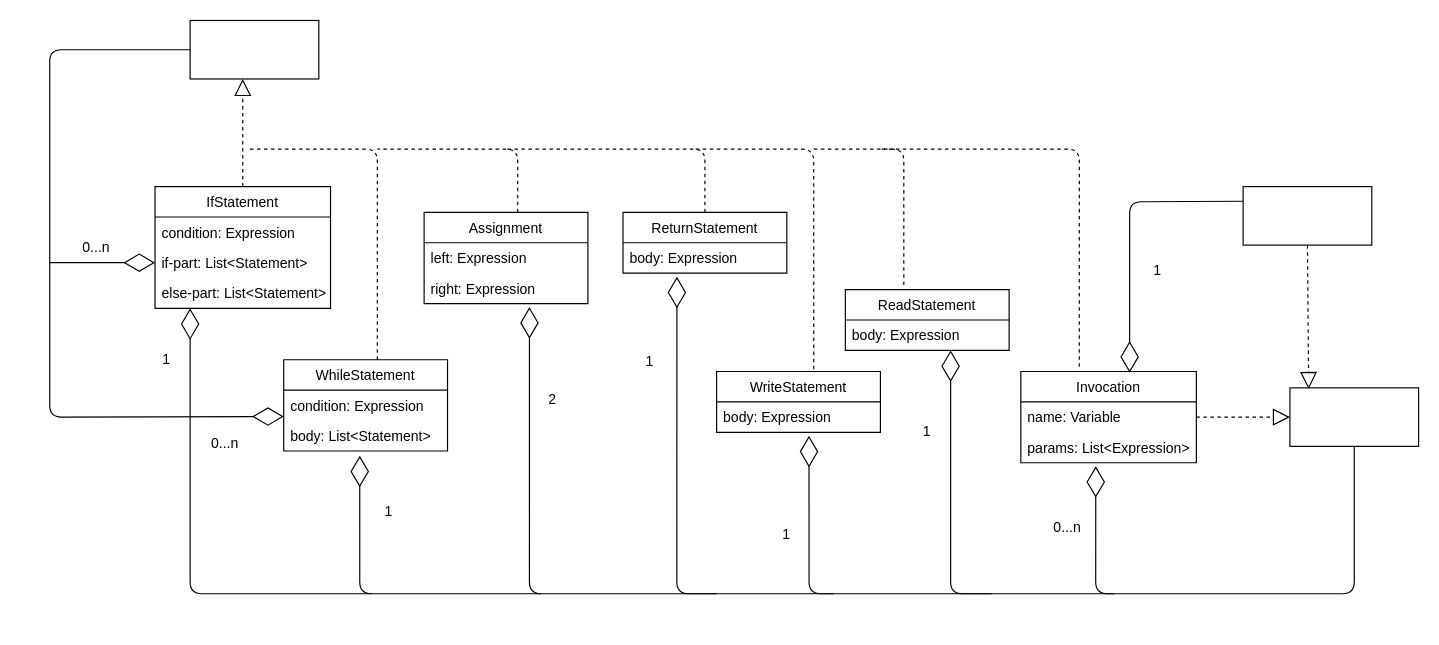
The diagram is 1439 pixels wide and 645 high, and some of its shapes have lost their labels. The centre of each missing label's shape, as x and y in pixels:
"Variable" belongs at (x=1307, y=215).
"«interface» Expression" belongs at (x=1354, y=416).
"«interface» Statement" belongs at (x=254, y=49).
